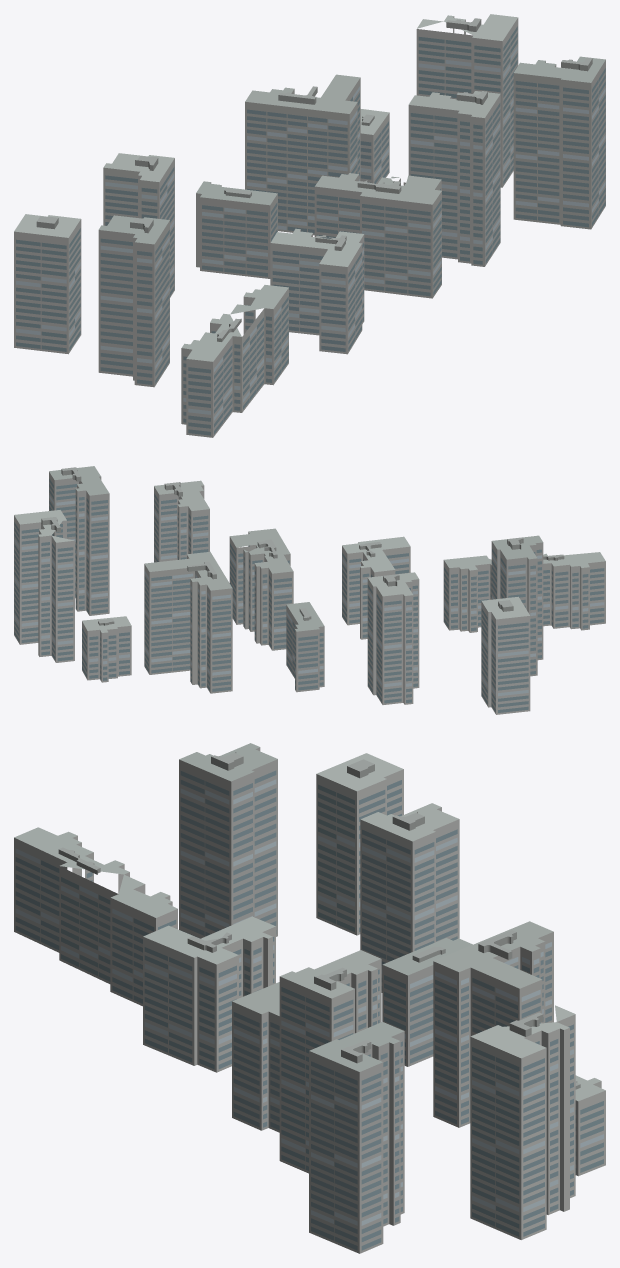
Rendered from apt-a10024440.glb.
The picture shows the model from 3 angles, top to bottom: view 1: azimuth 30°, elevation 25°; view 2: azimuth 150°, elevation 25°; view 3: azimuth 270°, elevation 25°; orthographic projection. The views are drawn at different scales.
Visible parts, largest first — view 1: apt-a10024440; view 2: apt-a10024440; view 3: apt-a10024440.
Boxes of the visible parts, <box> form: apt-a10024440: <box>14,14,605,437</box>; apt-a10024440: <box>14,466,605,714</box>; apt-a10024440: <box>14,743,605,1253</box>.
Bounding box in the file's own units: 263 × 66 × 185.
